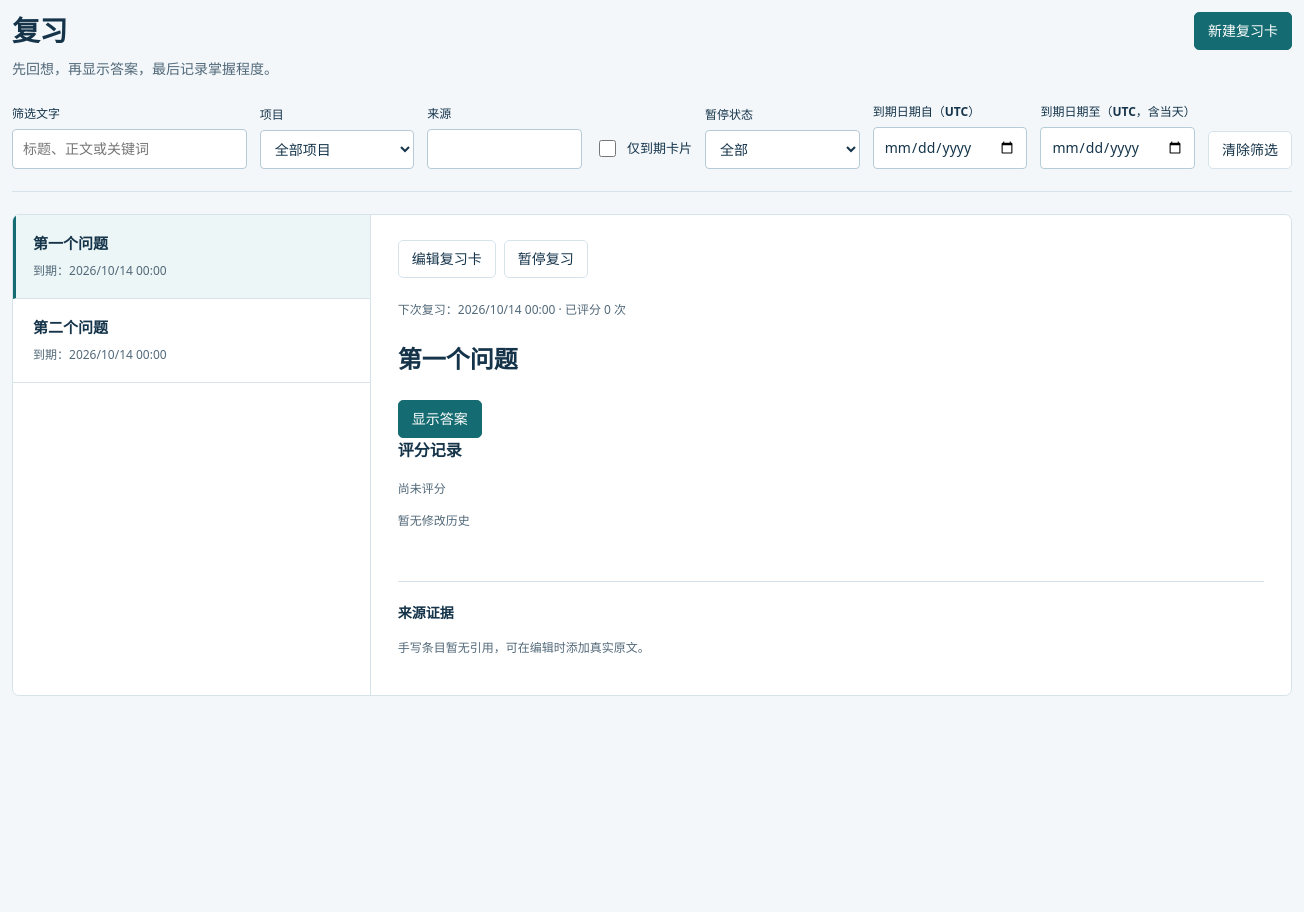
Test case: a late grade cannot replace the selected card or display the old card's due date
Click the button "显示答案" at (440, 419), box [398,400,482,438]
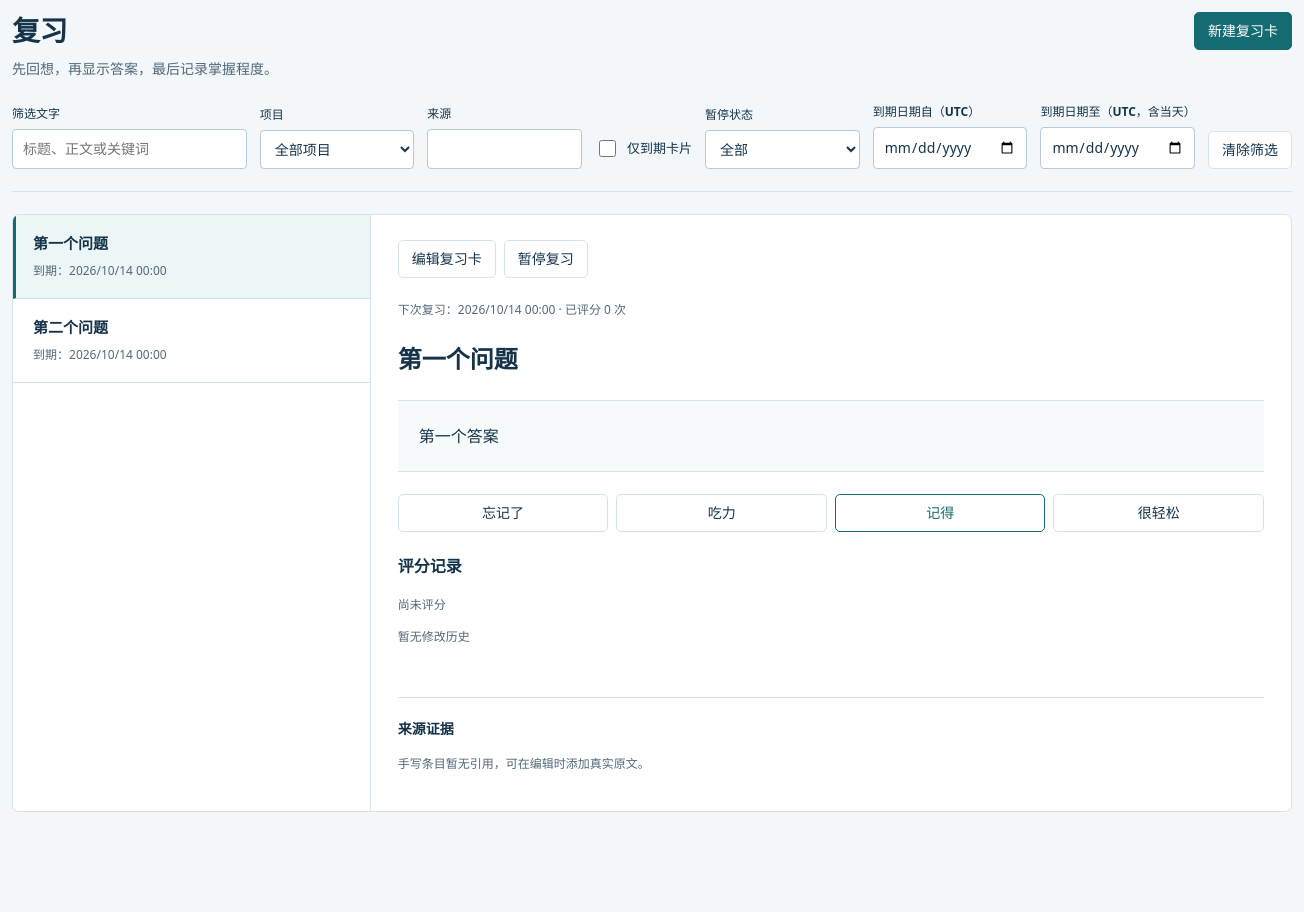
Click the button "记得" at (940, 513), box [835,494,1045,532]
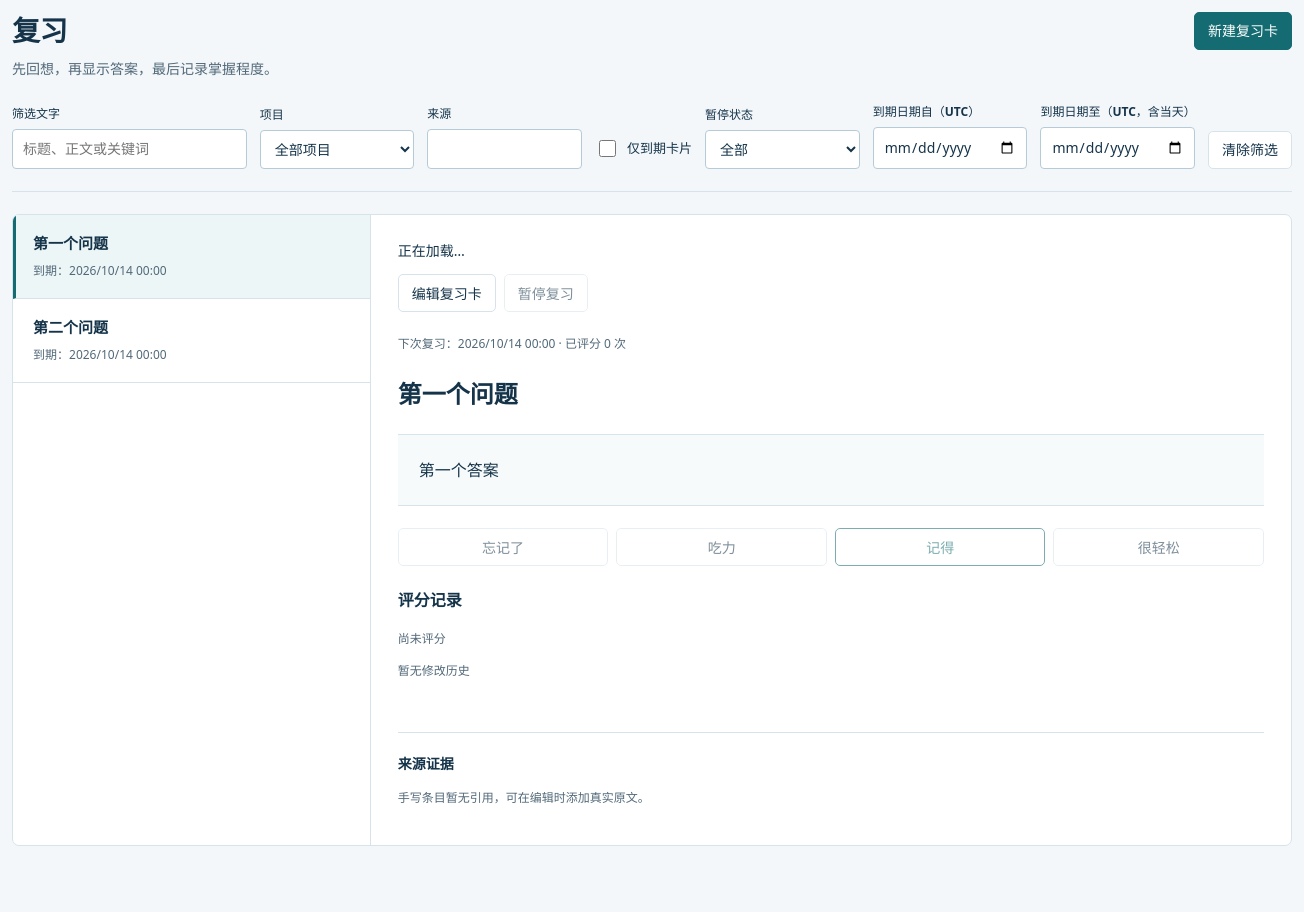
Click the button "第二个问题" at (71, 327), box [33,317,350,338]
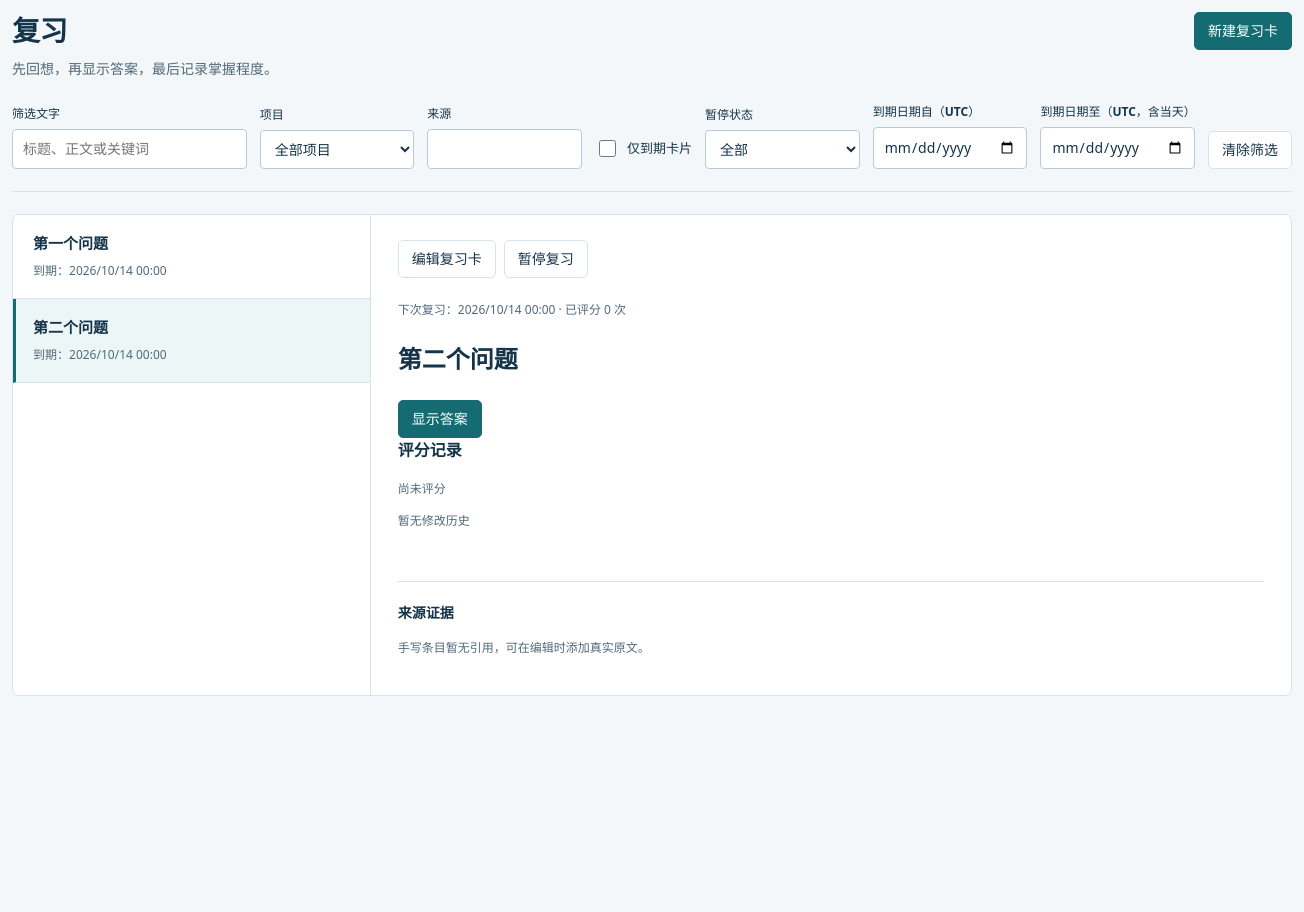
Now the heading "第二个问题" is shown, box [398,342,518,375]
